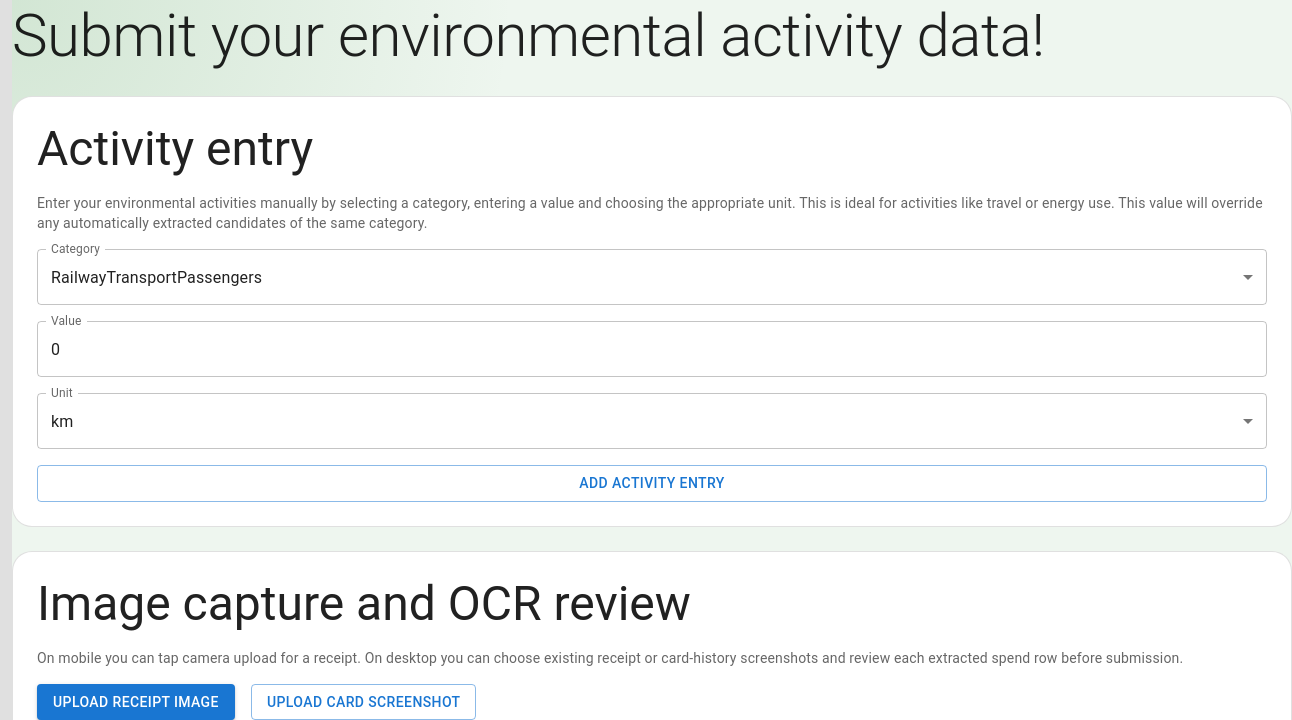
smart input workspace › captures manual entries and keeps the DTO preview updated
The image size is (1292, 720).
Step 1. Replace the text in the number field labelled "Value" with "18" → point(652, 349), box top-left (37, 321), bottom-right (1267, 377)
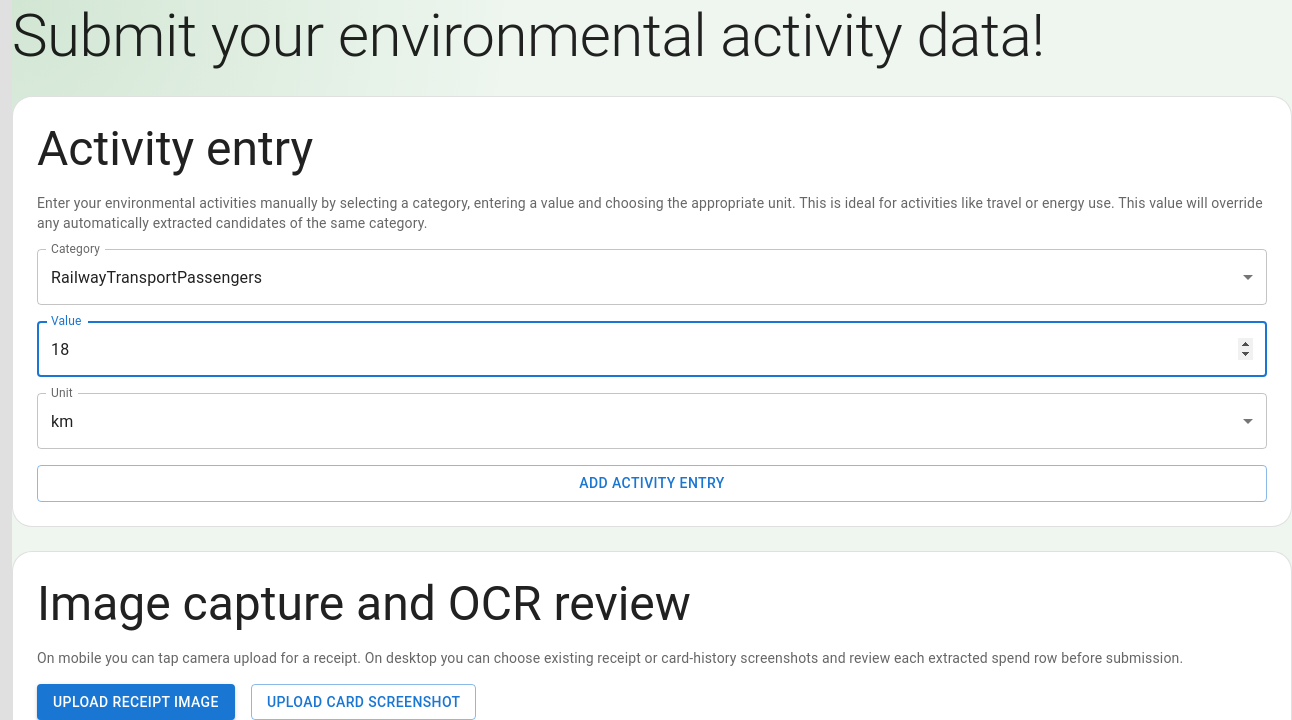
Step 2. Click the button "Add activity entry" → point(652, 483), box top-left (37, 465), bottom-right (1267, 502)
(page scrolled)
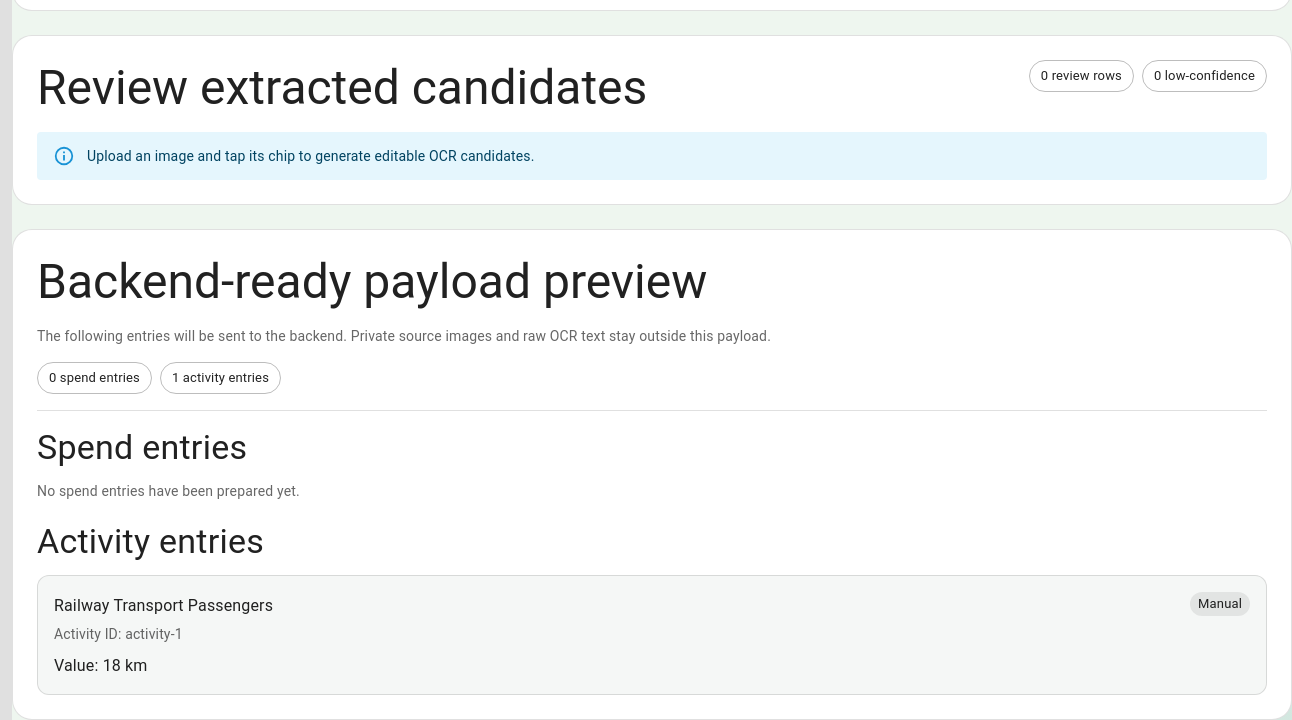
Expected: the heading "Activity entries" is shown, top-left (37, 521), bottom-right (264, 561)
Expected: the text "Value: 18 km" is shown, top-left (54, 656), bottom-right (148, 675)
